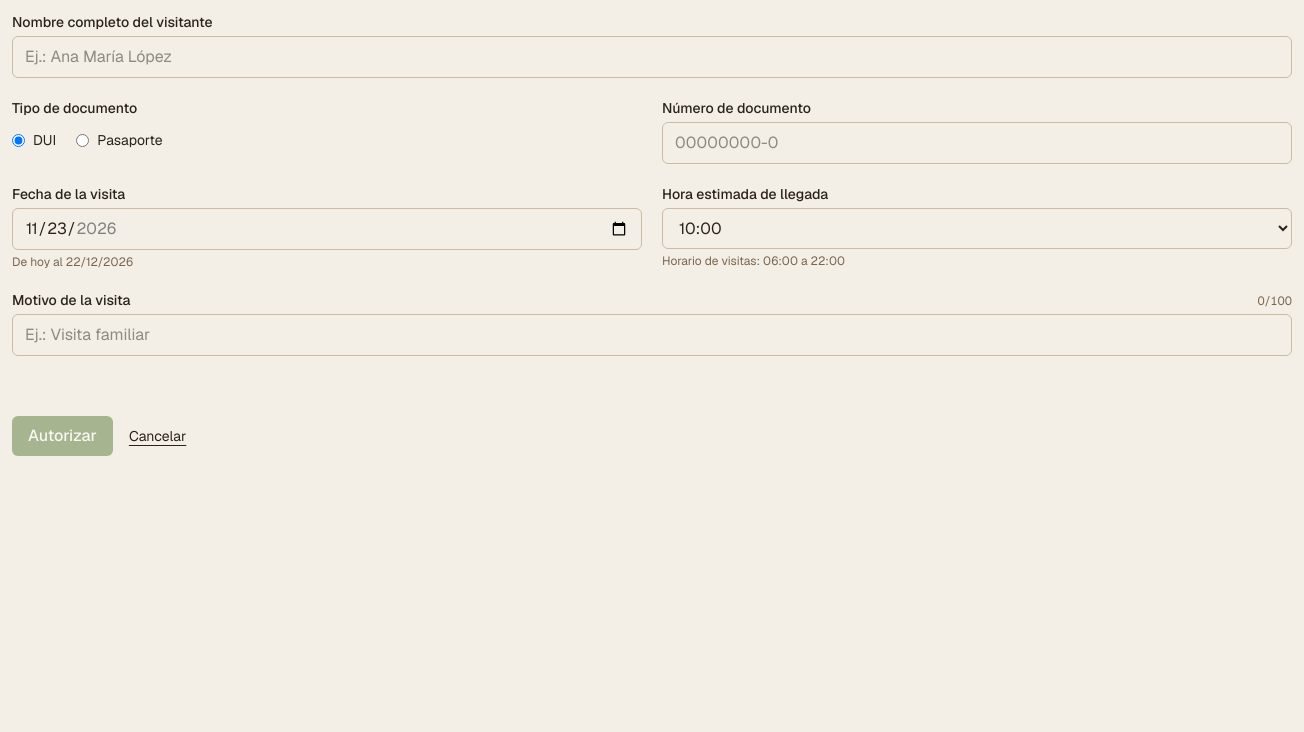
Test: H14. Preautorización de visitantes › AC3: cada campo inválido muestra su mensaje debajo
The width and height of the screenshot is (1304, 732).
Type "Ro" into the field labelled "Nombre completo del visitante". click: coordinates (652, 57)
box: [12,36,1292,78]
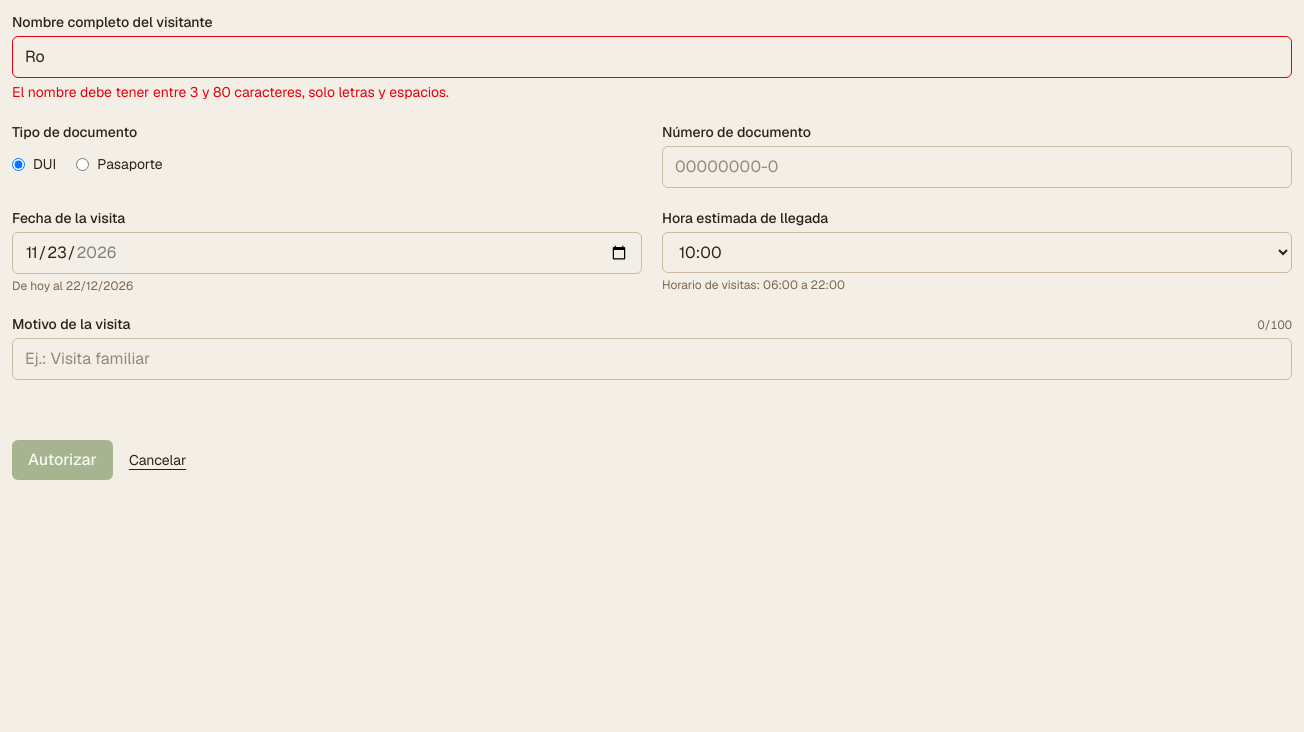
Type "123" into the field with id "documentNumber". click: coordinates (977, 167)
box: [662,146,1292,188]
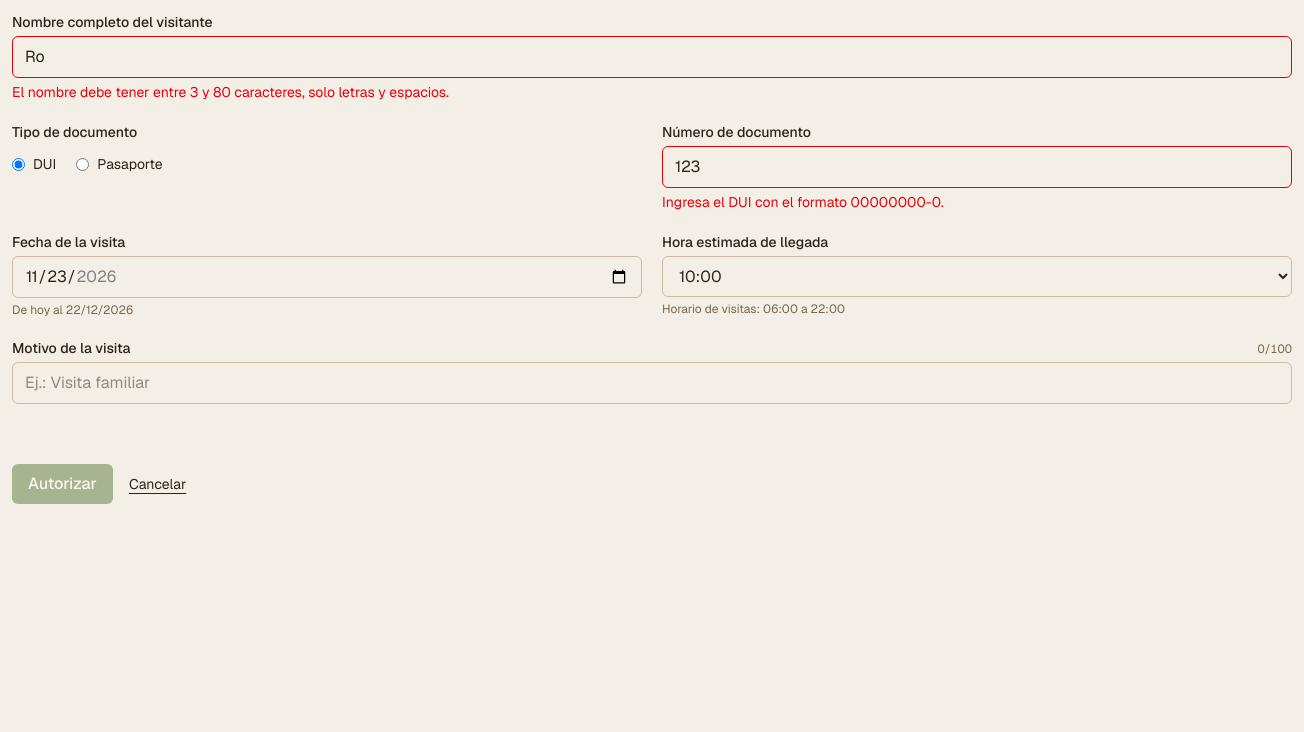
Type "Hola" into the field with id "reason". click: coordinates (652, 383)
box: [12,362,1292,404]
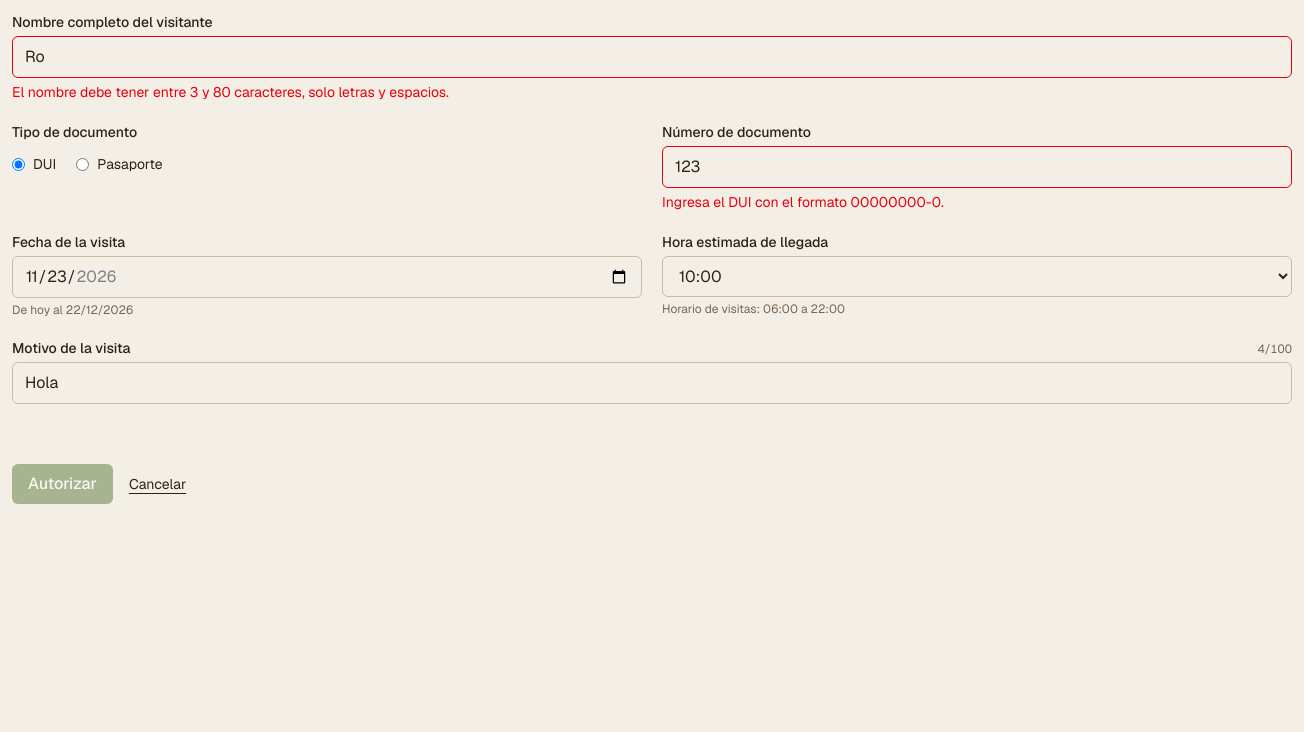
Leave the field with id "reason", box [12,362,1292,404]
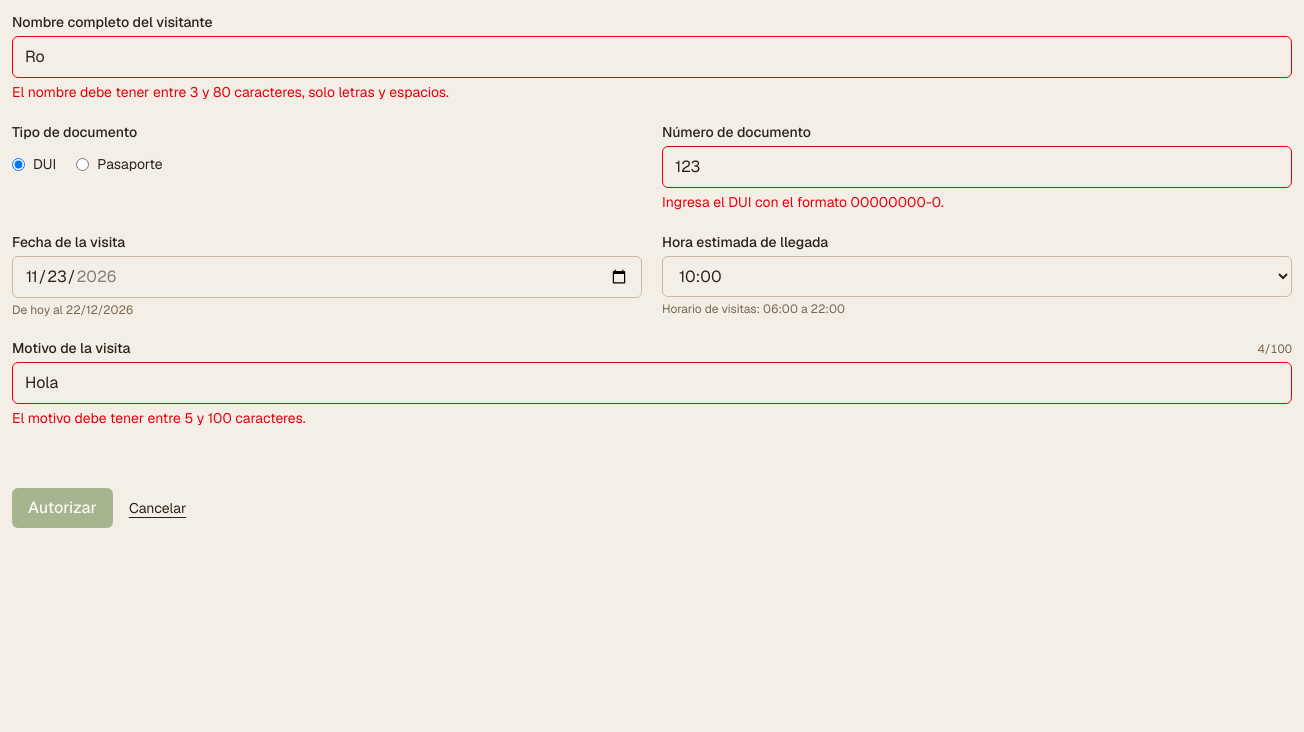
Check: the text "El nombre debe tener entre 3 y 80 caracteres, solo letras y espacios." is shown, box [12,83,449,101]
Check: the text "Ingresa el DUI con el formato 00000000-0." is shown, box [662,193,944,211]
Check: the text "El motivo debe tener entre 5 y 100 caracteres." is shown, box [12,409,306,427]
